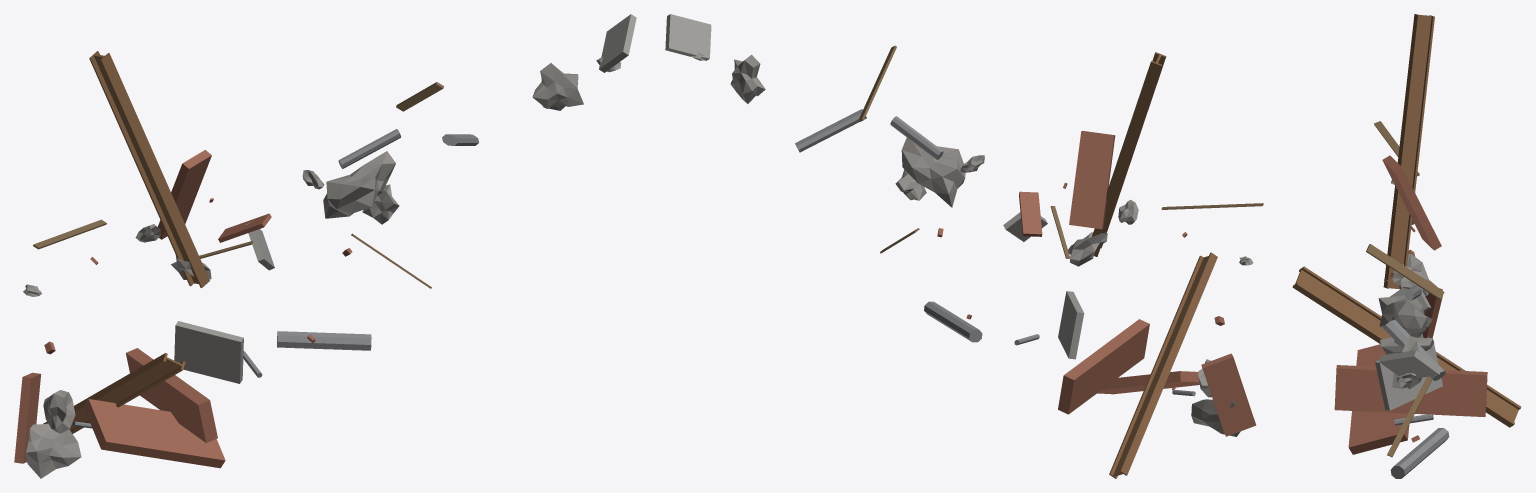
File: batch_RUBBLE_p000_p001.glb
3 renders of one model, left to right at view 1: azimuth 30°, elevation 25°; view 2: azimuth 150°, elevation 25°; view 3: azimuth 270°, elevation 25°, orthographic. The views are drawn at different scales.
Visible parts, largest first — view 1: SAR_Rubble_001_Piece_0004.001; view 2: SAR_Rubble_001_Piece_0004.001; view 3: SAR_Rubble_001_Piece_0004.001.
Boxes of the visible parts, box(x1,y1,x2,y2) form: SAR_Rubble_001_Piece_0004.001: box(14, 14, 636, 478); SAR_Rubble_001_Piece_0004.001: box(665, 14, 1263, 478); SAR_Rubble_001_Piece_0004.001: box(1292, 14, 1521, 478).
Bounding box in the file's own units: 21.77 × 14.01 × 7.02.
